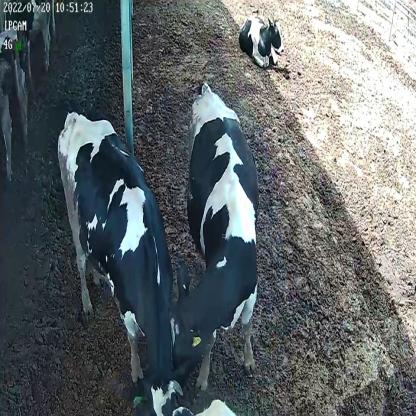cow: (56, 108, 186, 413), (169, 76, 263, 391), (238, 6, 287, 72)
